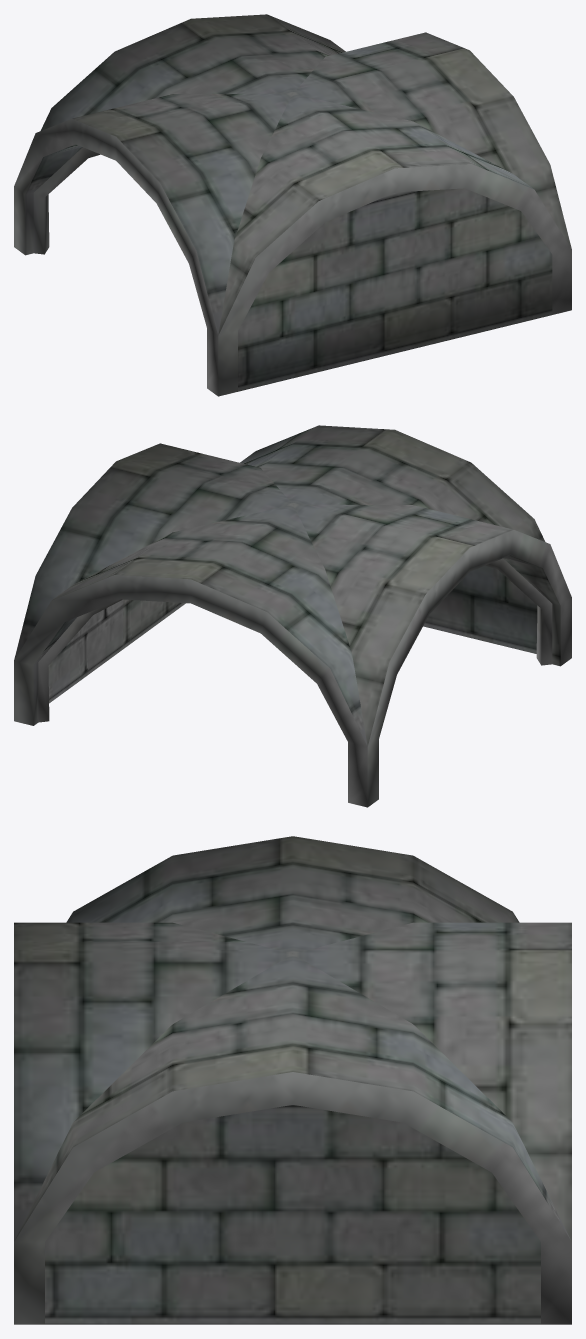
Rendered from sd_vault_ceiling_large_04.glb.
3 renders of one model, top to bottom at view 1: azimuth 30°, elevation 25°; view 2: azimuth 150°, elevation 25°; view 3: azimuth 270°, elevation 25°, orthographic. The views are drawn at different scales.
Parts seen in each view (by area): view 1: vault_ceiling_large_04; view 2: vault_ceiling_large_04; view 3: vault_ceiling_large_04.
Part boxes in pixels (x1=…): vault_ceiling_large_04: x1=14, y1=14, x2=571, y2=396; vault_ceiling_large_04: x1=14, y1=425, x2=571, y2=807; vault_ceiling_large_04: x1=14, y1=836, x2=571, y2=1324.
Bounding box in the file's own units: 4 × 2 × 4.
1 material, 1 textured.
